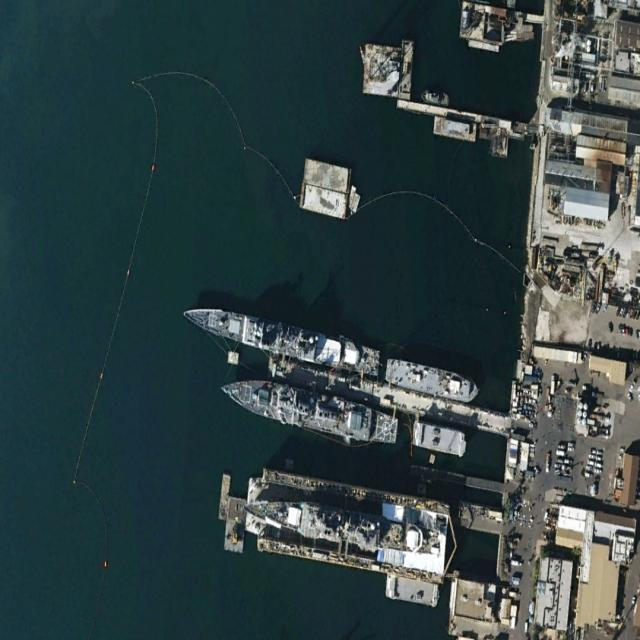Cruiser: (180, 296, 381, 378), (240, 489, 443, 558)
Destroyer: (218, 367, 400, 450)
Other Ship: (385, 354, 480, 406)
